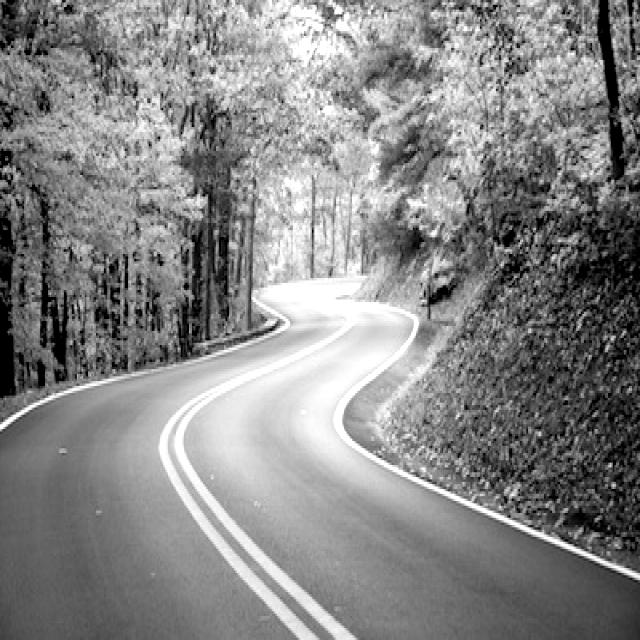cleat: (131, 224, 640, 640)
